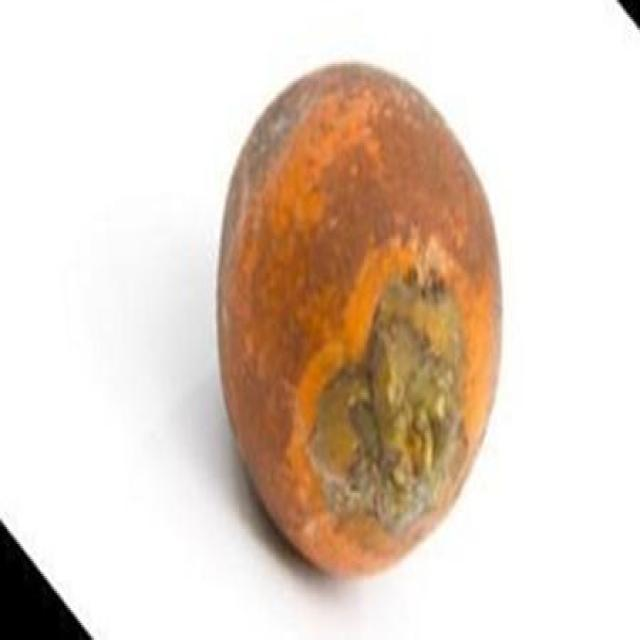good: (215, 64, 505, 580)
